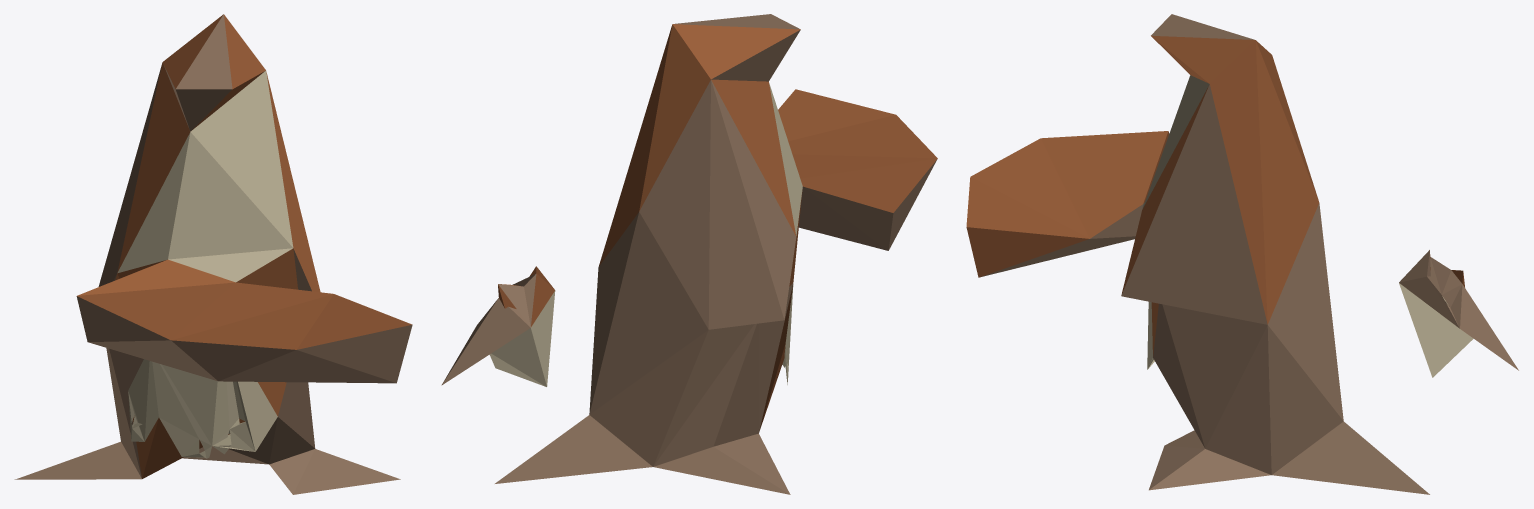
3 views of the same model, side by side, from view 1: azimuth 30°, elevation 25°; view 2: azimuth 150°, elevation 25°; view 3: azimuth 270°, elevation 25° (orthographic). The views are drawn at different scales.
Parts seen in each view (by area): view 1: lion-200; view 2: lion-200; view 3: lion-200.
Boxes of the visible parts, x1,y1,x2,y2 form: lion-200: [14, 14, 412, 494]; lion-200: [441, 14, 937, 494]; lion-200: [966, 14, 1518, 494].
Size of the model in its own units: 0.556 by 0.7857 by 0.9565.
